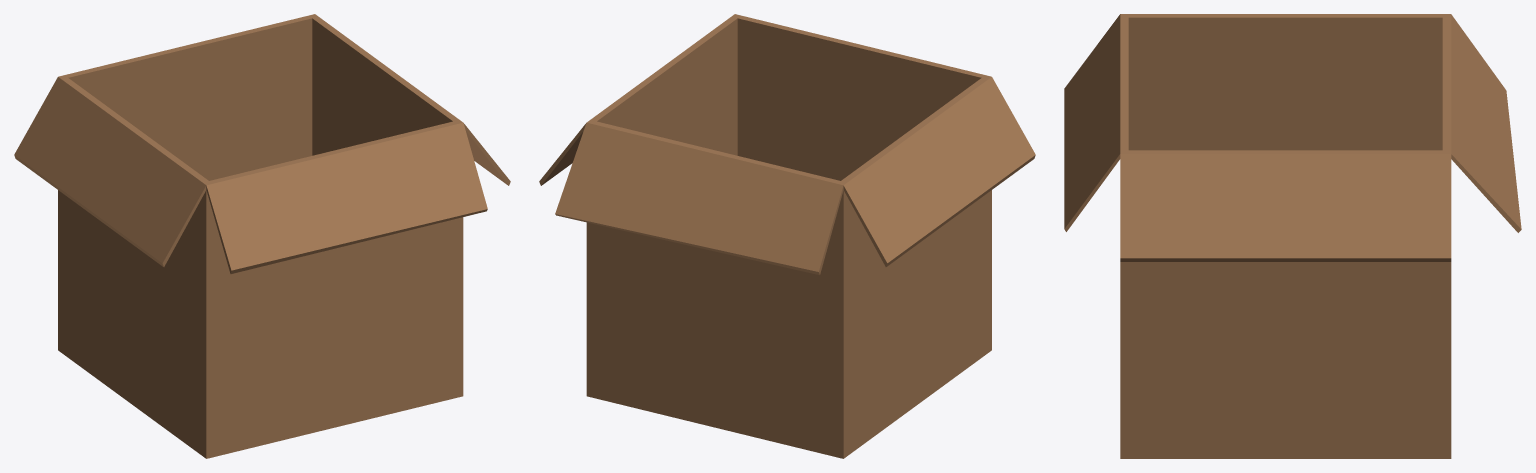
The model's file is carton_pas_utiliser.fbx.
3 renders of one model, left to right at view 1: azimuth 30°, elevation 25°; view 2: azimuth 150°, elevation 25°; view 3: azimuth 270°, elevation 25°, orthographic. The views are drawn at different scales.
Parts seen in each view (by area): view 1: Cube; view 2: Cube; view 3: Cube.
Part boxes in pixels (box(x1,y1,x2,y2)): Cube: box(14, 14, 510, 458); Cube: box(539, 14, 1035, 458); Cube: box(1064, 14, 1521, 458).
Size of the model in its own units: 271 by 203 by 276.
